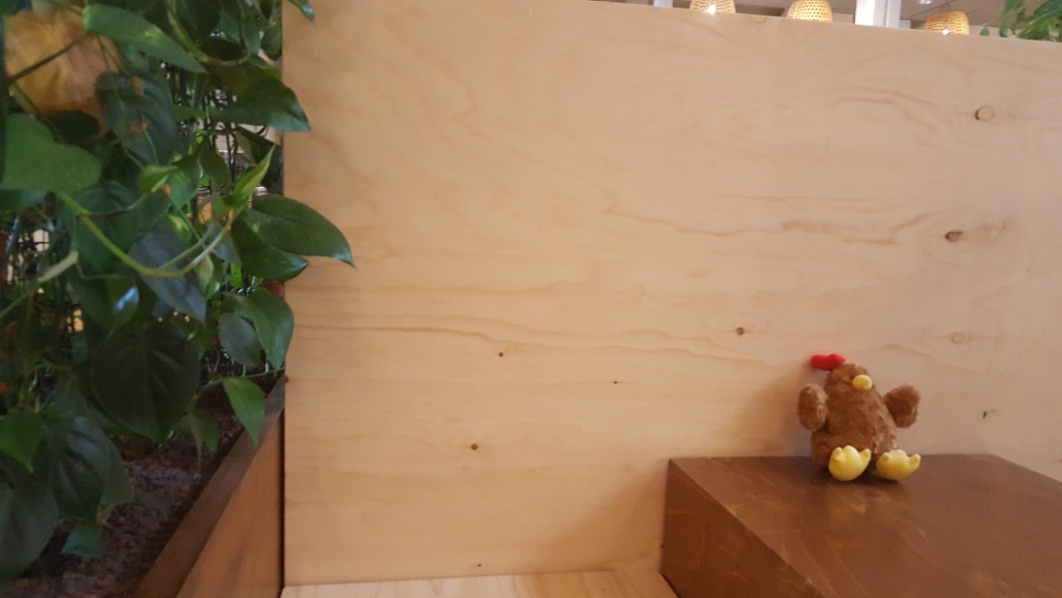chicken: (795, 343, 924, 488)
